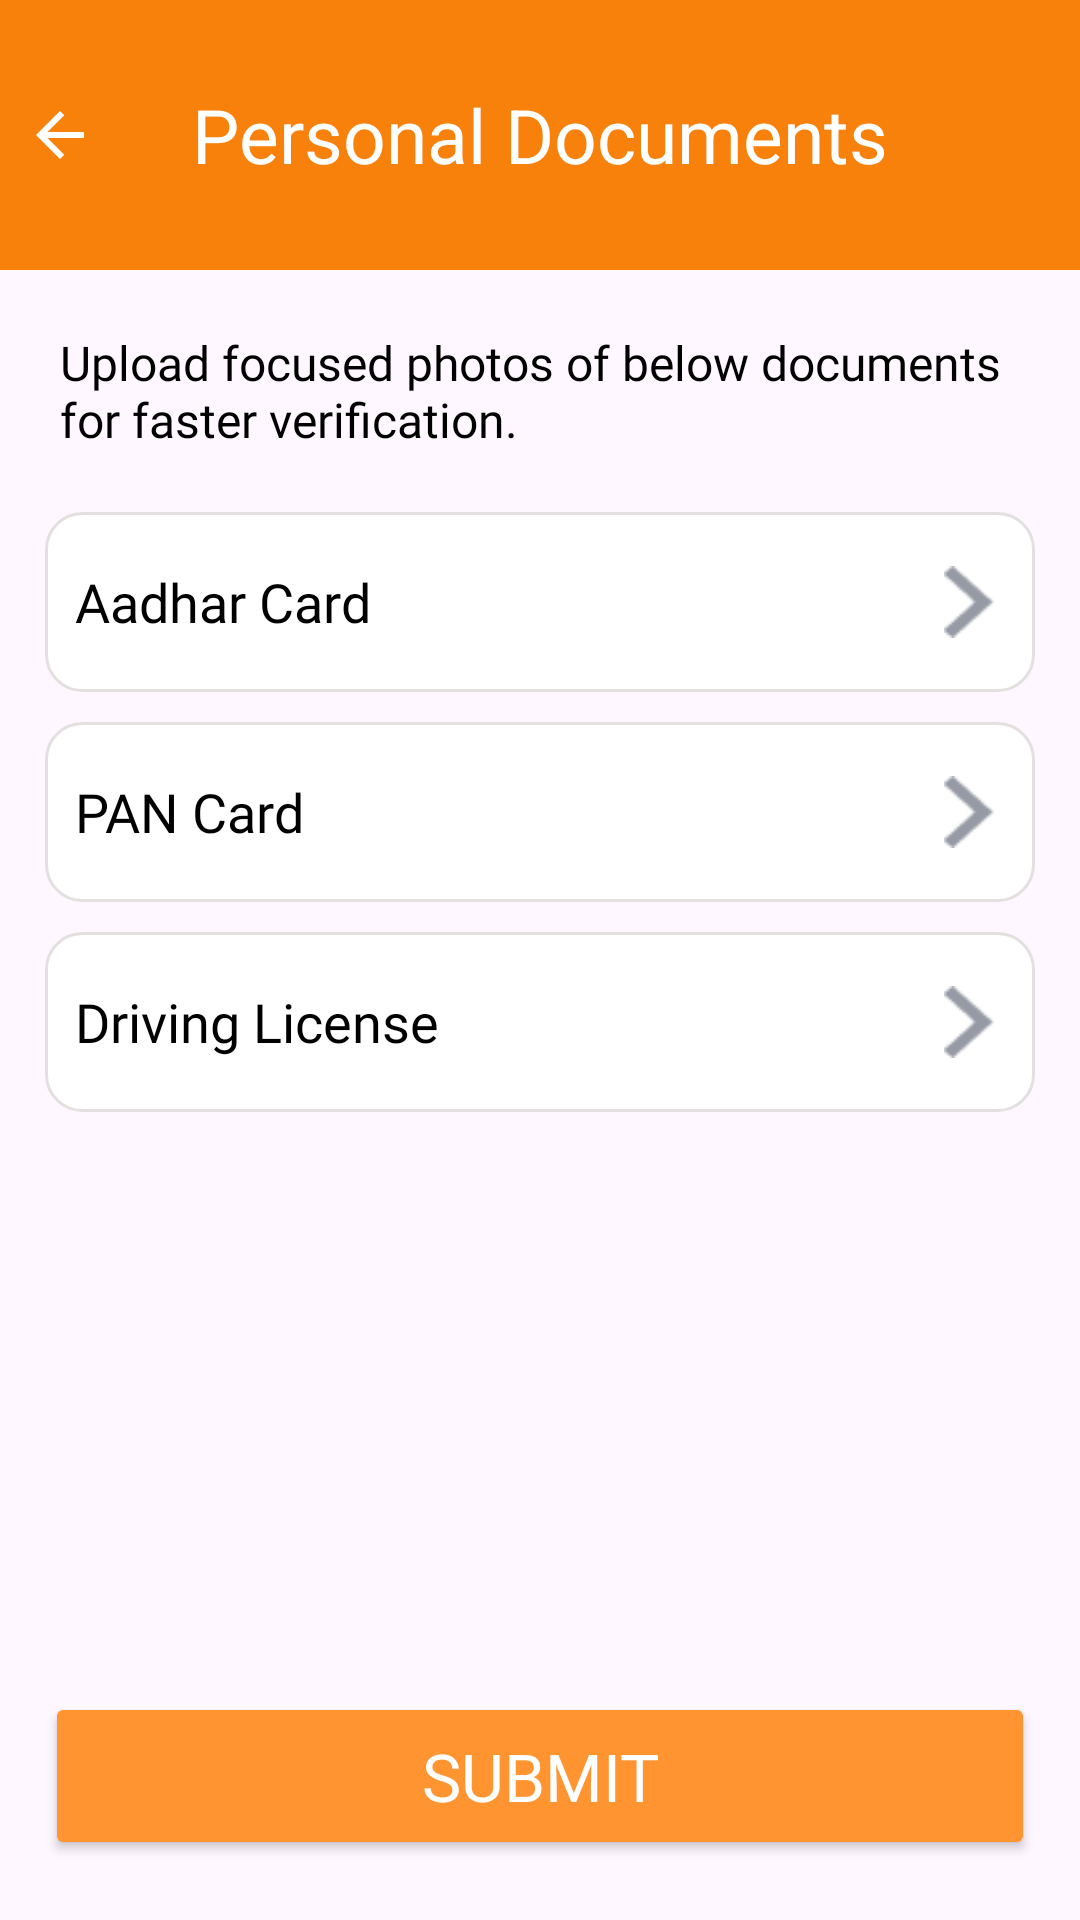

Point at icon controls on the screen. Image size 1080×1920, points as point (x, y).
Back: point (60, 135)
Default Arrow Icon: point (968, 602), point (968, 812), point (968, 1022)
